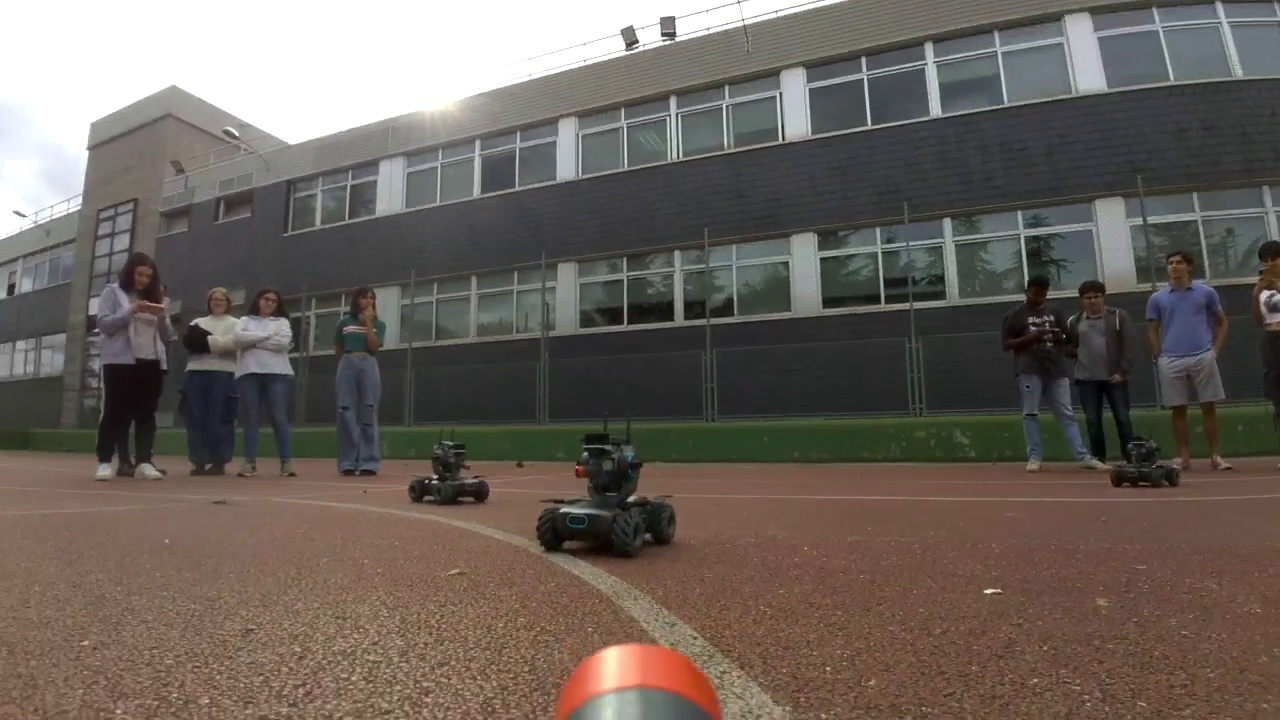robot: (535, 434, 676, 559), (408, 441, 489, 504), (1111, 437, 1180, 487)
